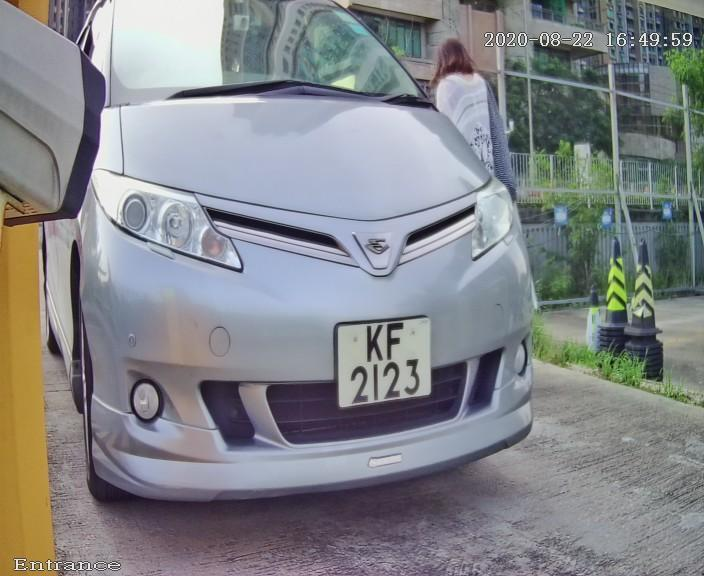Car: (38, 1, 579, 538)
License Plate: (327, 304, 440, 420)
